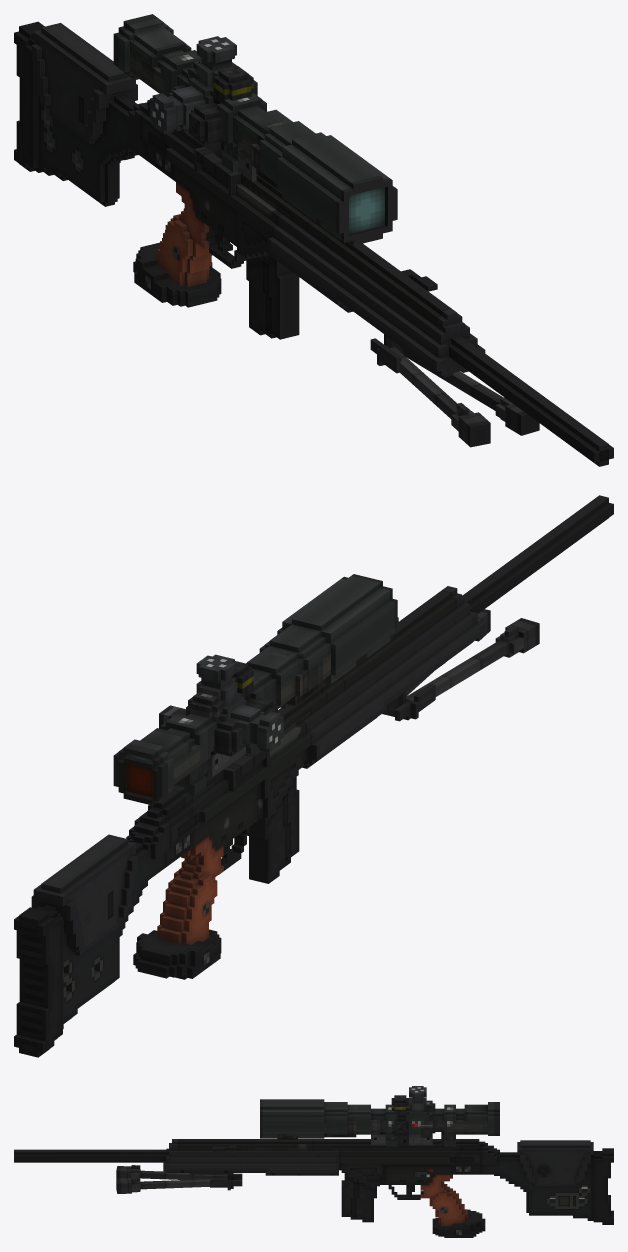
Rendered from RD_PSG1_RUSTED.glb.
3 views of the same model, one above another, from view 1: azimuth 30°, elevation 25°; view 2: azimuth 150°, elevation 25°; view 3: azimuth 270°, elevation 25° (orthographic). The views are drawn at different scales.
Visible parts, largest first — view 1: HK_PSG1, SCOPE_LEUPOLD_ULTRA, SCOPE_LEUPOLD, HK_PSG1_CLIP, DIPOD2_LEG1, DIPOD2_LEG2, SCOPE_NIGHTFORCE, DIPOD2; view 2: HK_PSG1, SCOPE_LEUPOLD_ULTRA, SCOPE_NIGHTFORCE, HK_PSG1_CLIP, SCOPE_LEUPOLD, DIPOD2_LEG1, DIPOD2; view 3: HK_PSG1, SCOPE_LEUPOLD_ULTRA, SCOPE_LEUPOLD, HK_PSG1_CLIP, SCOPE_NIGHTFORCE, DIPOD2_LEG2, DIPOD2_LEG1, DIPOD2.
Part boxes in pixels (box(x1,y1,x2,y2)): HK_PSG1: box(14, 21, 613, 466); SCOPE_LEUPOLD_ULTRA: box(113, 14, 397, 245); SCOPE_LEUPOLD: box(119, 52, 325, 229); HK_PSG1_CLIP: box(246, 255, 299, 339); DIPOD2_LEG1: box(390, 347, 490, 447); DIPOD2_LEG2: box(403, 349, 539, 435); SCOPE_NIGHTFORCE: box(126, 50, 331, 234); DIPOD2: box(370, 334, 425, 373); HK_PSG1: box(14, 495, 613, 1057); SCOPE_LEUPOLD_ULTRA: box(113, 574, 397, 804); SCOPE_NIGHTFORCE: box(118, 647, 370, 805); HK_PSG1_CLIP: box(247, 777, 299, 883); SCOPE_LEUPOLD: box(123, 653, 366, 805); DIPOD2_LEG1: box(406, 618, 539, 701); DIPOD2: box(382, 662, 445, 721); HK_PSG1: box(14, 1139, 613, 1237); SCOPE_LEUPOLD_ULTRA: box(260, 1086, 499, 1146); SCOPE_LEUPOLD: box(283, 1095, 499, 1145); HK_PSG1_CLIP: box(341, 1173, 376, 1222); SCOPE_NIGHTFORCE: box(277, 1100, 499, 1145); DIPOD2_LEG2: box(116, 1177, 209, 1193); DIPOD2_LEG1: box(116, 1165, 227, 1179); DIPOD2: box(189, 1173, 242, 1190).
Size of the model in its own units: 0.2066 by 0.5215 by 2.02.
Materials: 5 (5 with a texture image).
